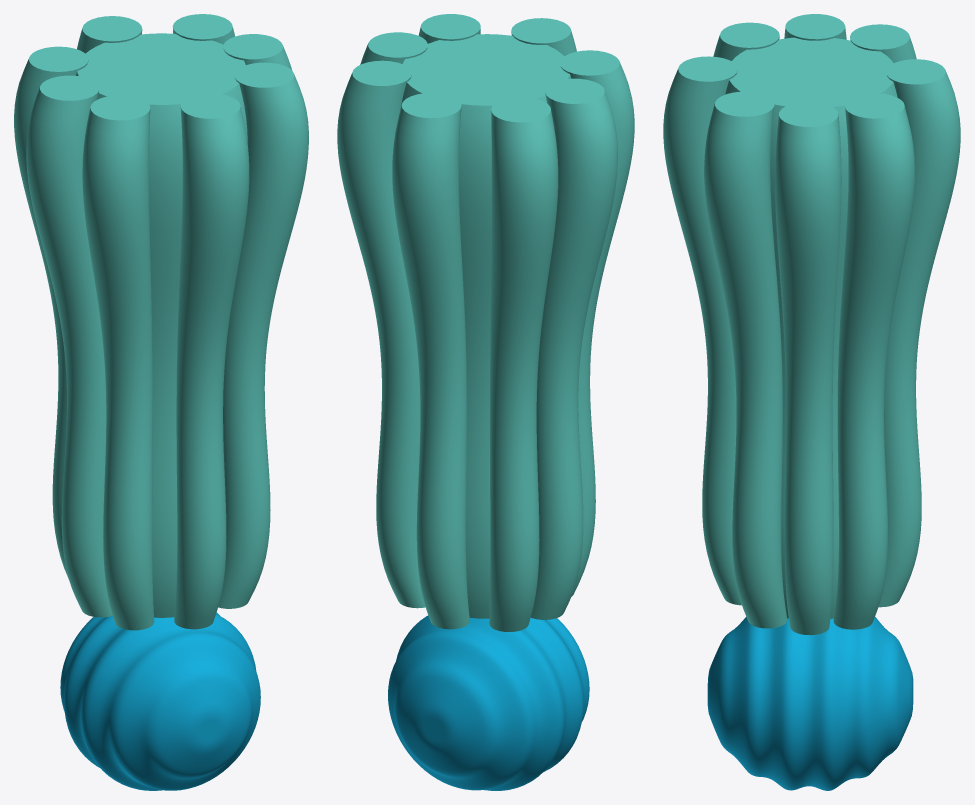
Rendered from alert.glb.
The picture shows the model from 3 angles, left to right: view 1: azimuth 30°, elevation 25°; view 2: azimuth 150°, elevation 25°; view 3: azimuth 270°, elevation 25°; orthographic projection.
Parts seen in each view (by area): view 1: Base, Circle; view 2: Base, Circle; view 3: Base, Circle.
Boxes of the visible parts, x1,y1,x2,y2 form: Base: (14, 14, 308, 630); Circle: (60, 612, 260, 790); Base: (337, 14, 634, 631); Circle: (388, 615, 589, 790); Base: (663, 14, 960, 635); Circle: (707, 616, 913, 790).
Size of the model in its own units: 0.844 by 2.23 by 0.845.
